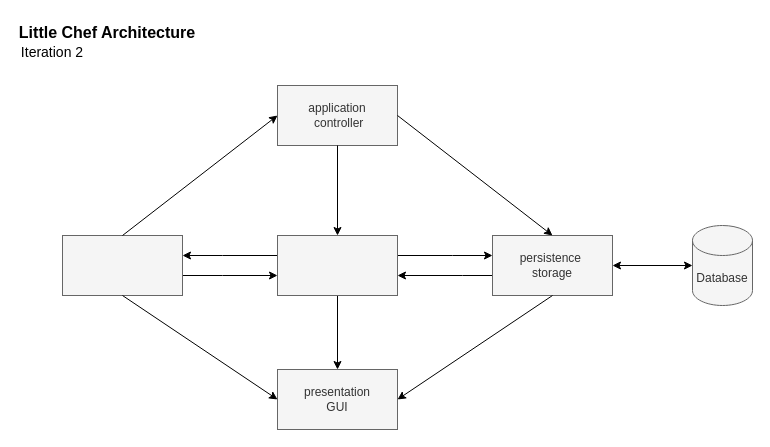
This 770x447 diagram has some shape labels left out. The centre of each missing label's shape, as x and y in pixels:
business logic: the point at 337,265
domain-specific objects: the point at 122,265
